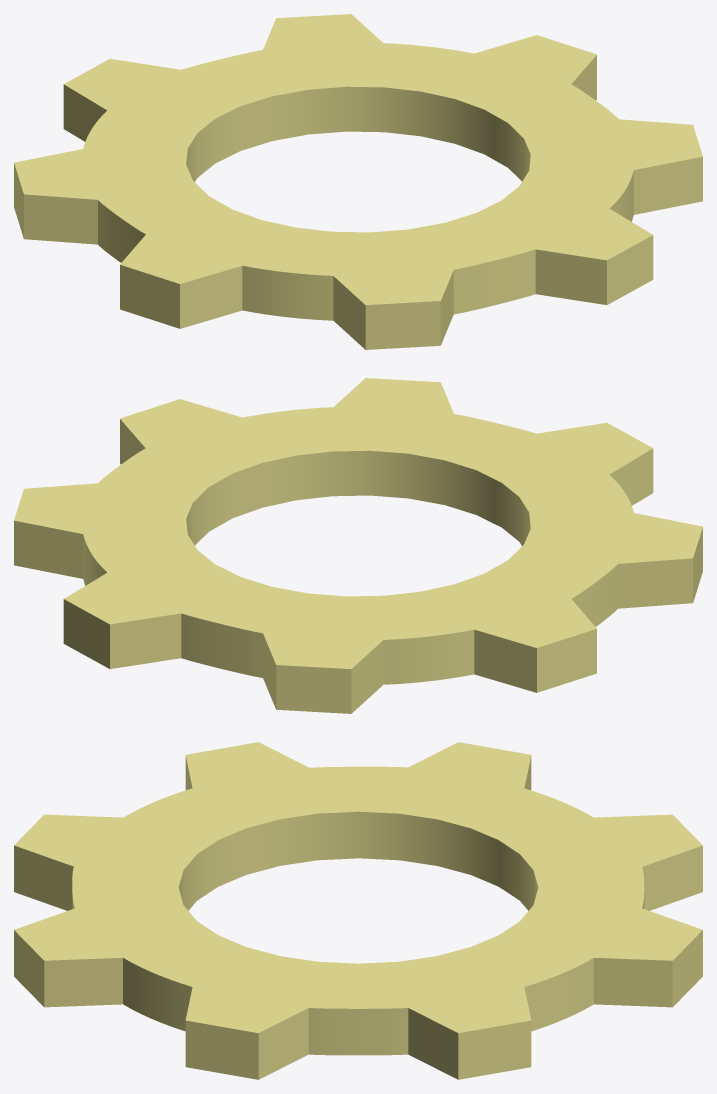
The model's file is cogwheel.fbx.
3 renders of one model, top to bottom at view 1: azimuth 30°, elevation 25°; view 2: azimuth 150°, elevation 25°; view 3: azimuth 270°, elevation 25°, orthographic. The views are drawn at different scales.
Visible parts, largest first — view 1: Сogwheel; view 2: Сogwheel; view 3: Сogwheel.
Boxes of the visible parts, bbox=[...] form: Сogwheel: bbox=[14, 14, 702, 349]; Сogwheel: bbox=[14, 378, 702, 713]; Сogwheel: bbox=[14, 742, 702, 1079].
Bounding box in the file's own units: 107 × 8 × 107.
